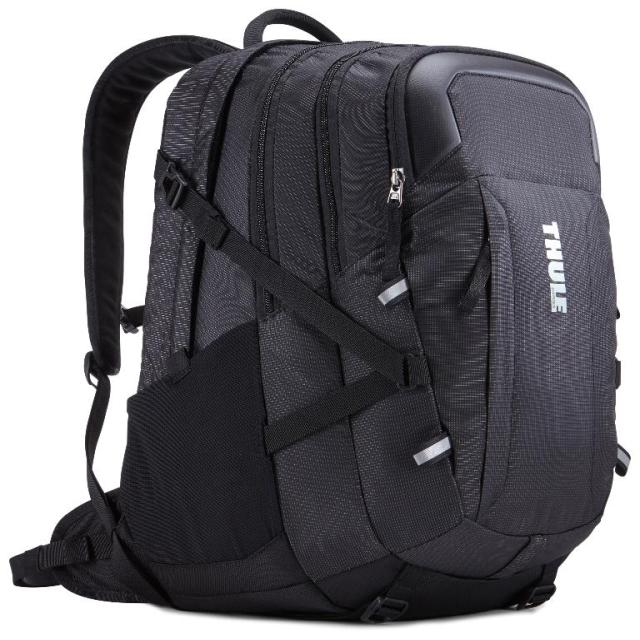backpack: (7, 16, 634, 624)
